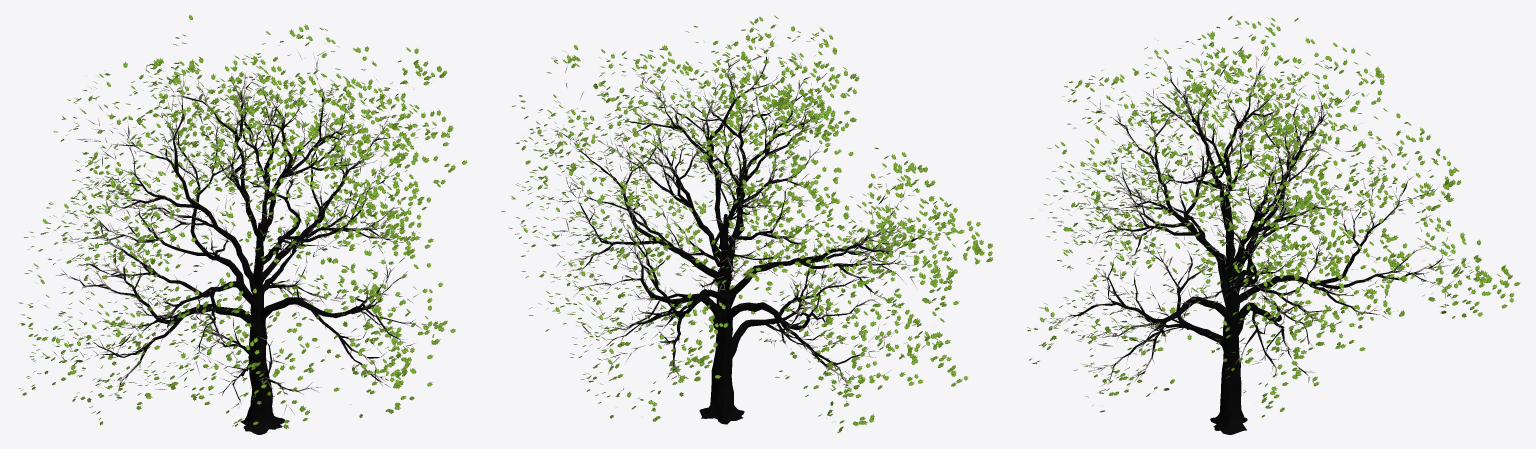
The model's file is LINDEN-ashgreen-FIXED-mid.glb.
The picture shows the model from 3 angles, left to right: view 1: azimuth 30°, elevation 25°; view 2: azimuth 150°, elevation 25°; view 3: azimuth 270°, elevation 25°; orthographic projection.
Visible parts, largest first — view 1: ash_green_1; view 2: ash_green_1; view 3: ash_green_1.
Part boxes in pixels (x1,y1,x2,y2): ash_green_1: (19, 14, 467, 434); ash_green_1: (501, 15, 993, 432); ash_green_1: (1027, 16, 1520, 434).
Bounding box in the file's own units: 20.7 × 17.42 × 20.15.
Materials: 2 (2 with a texture image).
